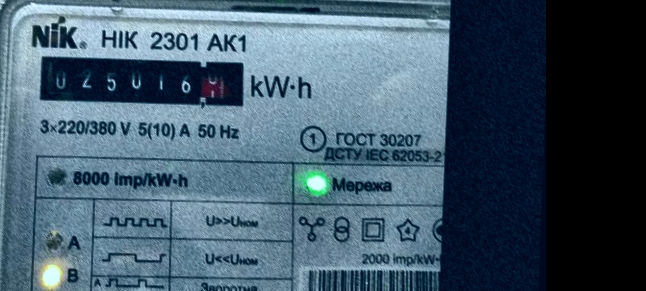0: (131, 68, 146, 91), (55, 69, 69, 91), (207, 66, 220, 86)
1: (156, 68, 168, 93), (209, 89, 217, 100)
2: (81, 67, 95, 90)
5: (106, 71, 118, 92)
6: (180, 72, 194, 97)
screen: (32, 46, 256, 116)
